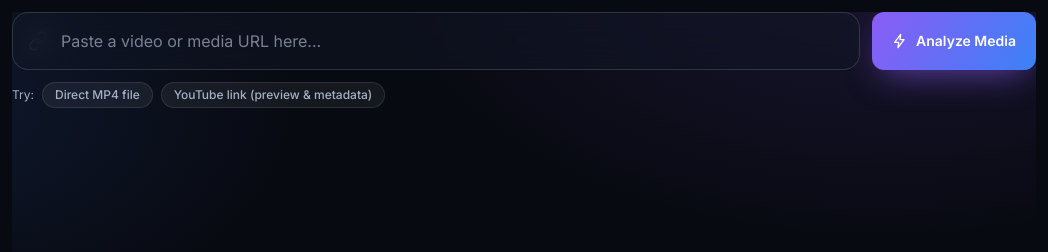
Scenario: UrlAnalyzer › rejects dangerous protocols client-side
In the field labelled "Paste a video or media URL here...": (436, 41) 12,12 -> 860,70, type "javascript:alert(1)"
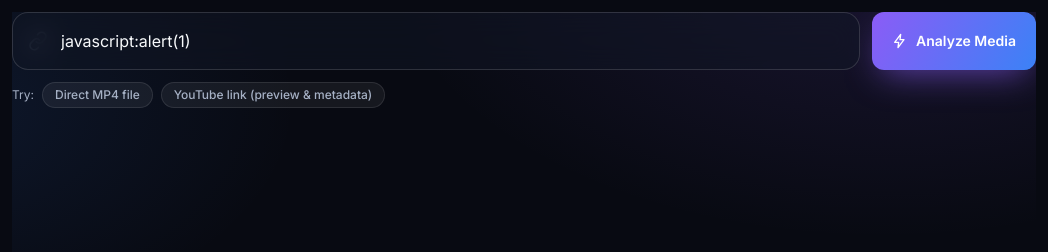
Submit the form named "media url", box 12,12 -> 1036,70
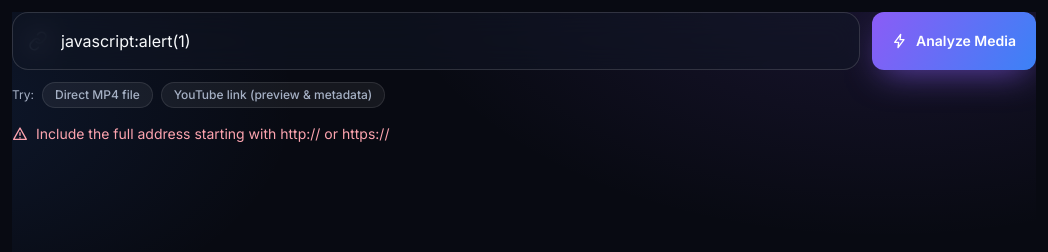
Expected: the message shows "full address", 36,125 -> 389,142
